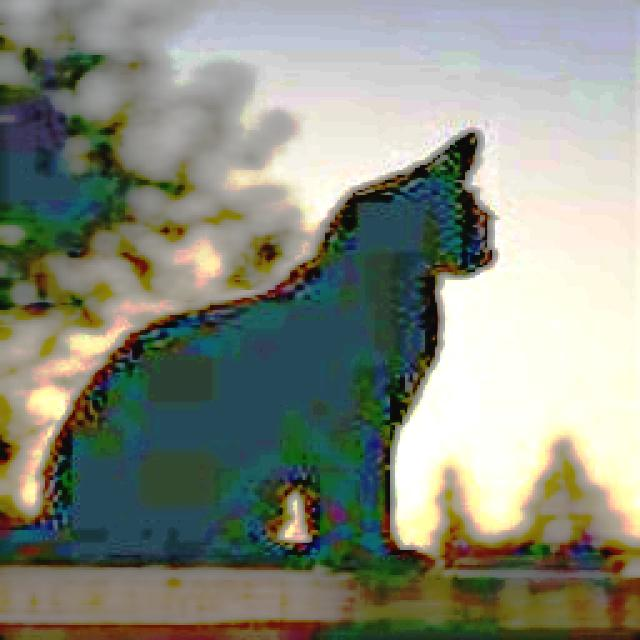cat: (38, 127, 501, 581)
